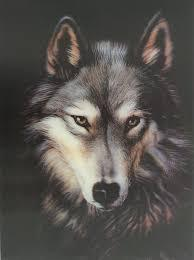Wolf: (28, 8, 194, 256)
